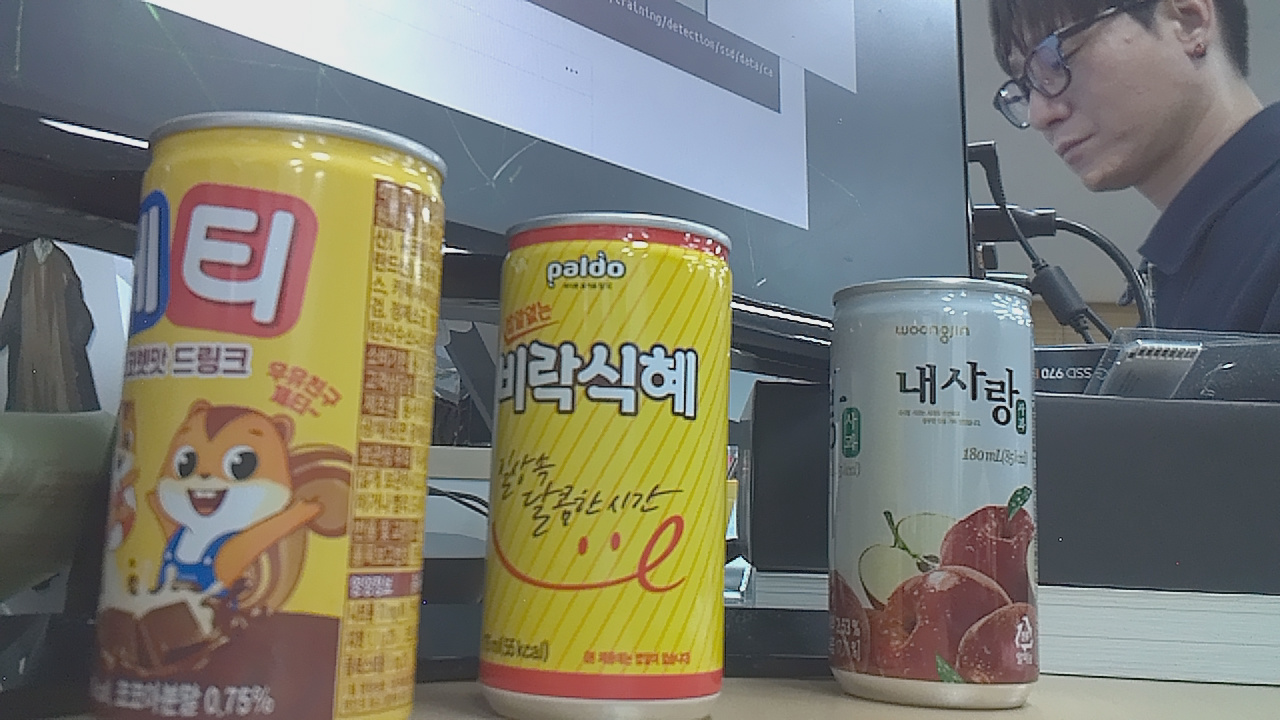jetty: (90, 104, 458, 720)
mylove apple: (822, 271, 1052, 720)
paldo shikhye: (473, 196, 747, 720)
